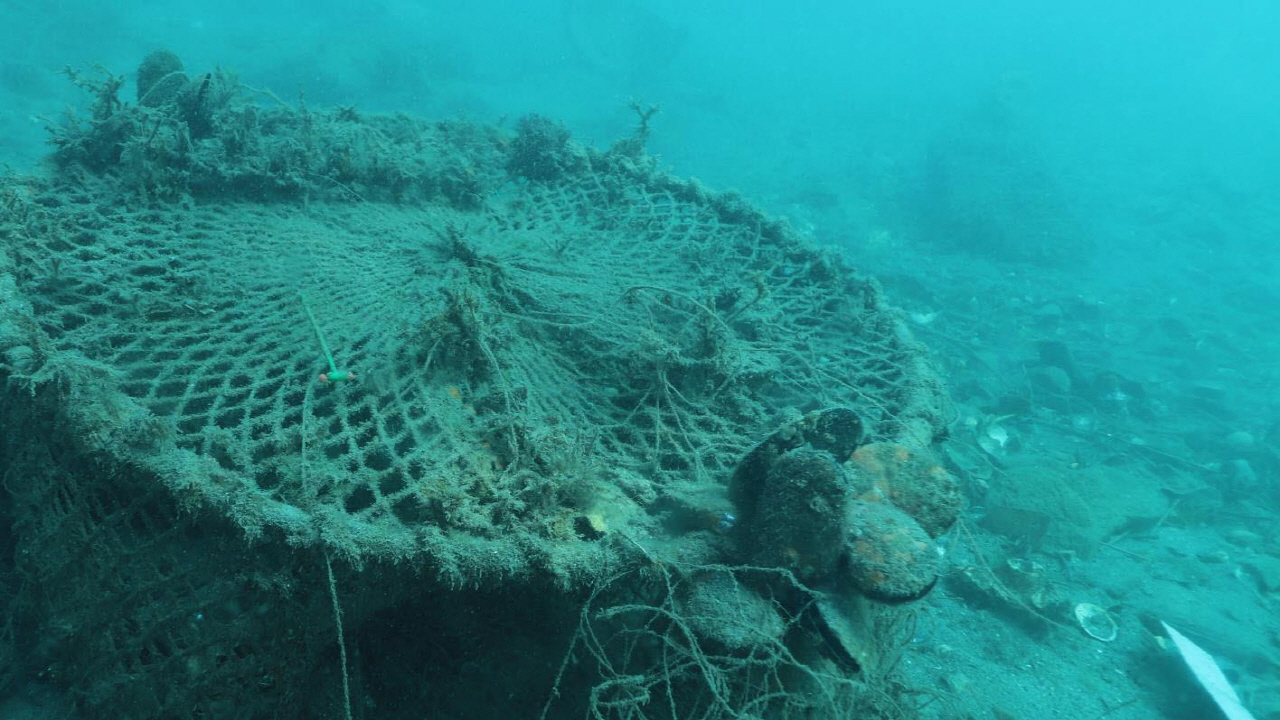circular fish trap: (0, 110, 936, 720)
